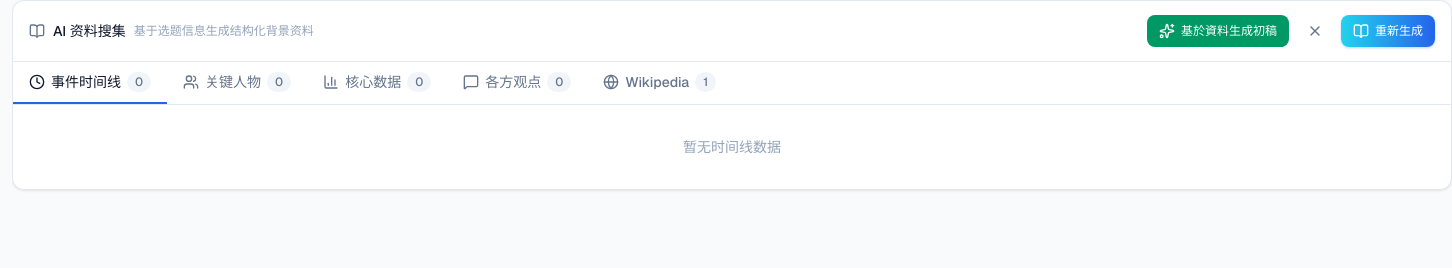
Test: ResearchKitPanel › should render English Wikipedia entry with correct label
Click the button "Wikipedia 1" at (660, 83), box [587,62,732,104]
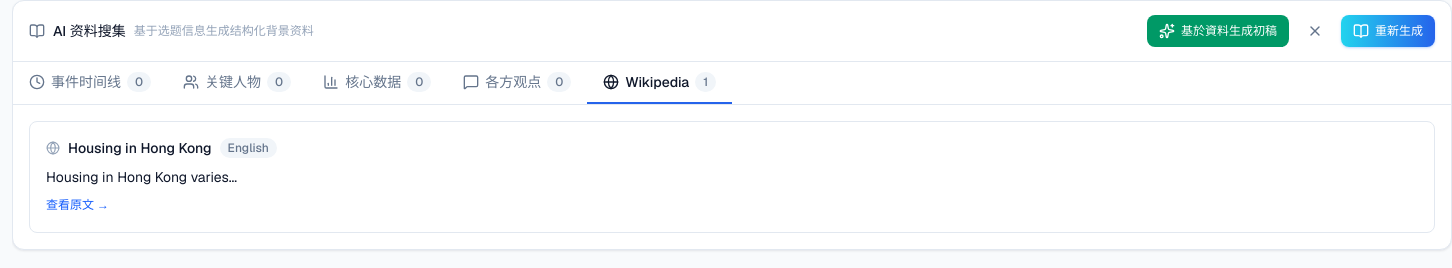
Result: the text "English" is shown at [220,138,277,158]
